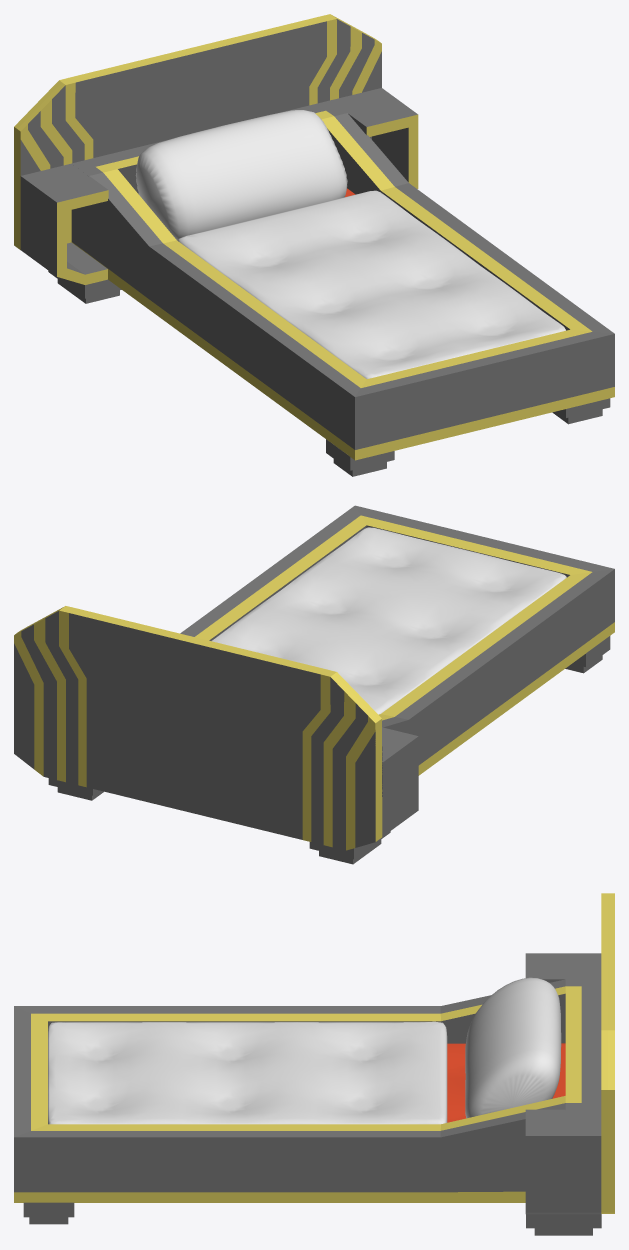
Rendered from bed_tier18.fbx.
3 views of the same model, one above another, from view 1: azimuth 30°, elevation 25°; view 2: azimuth 150°, elevation 25°; view 3: azimuth 270°, elevation 25° (orthographic). The views are drawn at different scales.
Visible parts, largest first — view 1: Cube, Cube.001, Cube.008, Cylinder.004, Cube.007, Cube.009, Cube.002, Cube.004, Cube.003; view 2: Cube.008, Cube.001, Cube, Cube.007, Cube.004, Cube.002, Cube.005; view 3: Cube, Cube.001, Cylinder.004, Cube.009, Cube.008, Cube.007, Cube.006, Cube.005, Cube.003.
Part boxes in pixels (x1,y1,x2,y2): Cube: (71, 100, 614, 460); Cube.001: (178, 190, 565, 378); Cube.008: (14, 14, 381, 249); Cylinder.004: (135, 110, 347, 240); Cube.007: (20, 163, 108, 284); Cube.009: (331, 88, 418, 188); Cube.002: (326, 439, 394, 476); Cube.004: (48, 270, 121, 303); Cube.003: (552, 398, 610, 424); Cube.008: (14, 606, 382, 850); Cube.001: (211, 527, 566, 714); Cube: (180, 505, 614, 775); Cube.007: (382, 727, 418, 836); Cube.004: (309, 831, 390, 864); Cube.002: (565, 636, 610, 673); Cube.005: (48, 778, 103, 800); Cube: (14, 979, 601, 1202); Cube.001: (48, 1021, 447, 1124); Cylinder.004: (465, 977, 561, 1118); Cube.009: (525, 1109, 601, 1214); Cube.008: (601, 893, 614, 1213); Cube.007: (525, 953, 601, 982); Cube.006: (447, 1043, 565, 1122); Cube.005: (526, 1214, 601, 1235); Cube.003: (23, 1202, 74, 1224).
Bounding box in the file's own units: 263 × 134 × 365.
